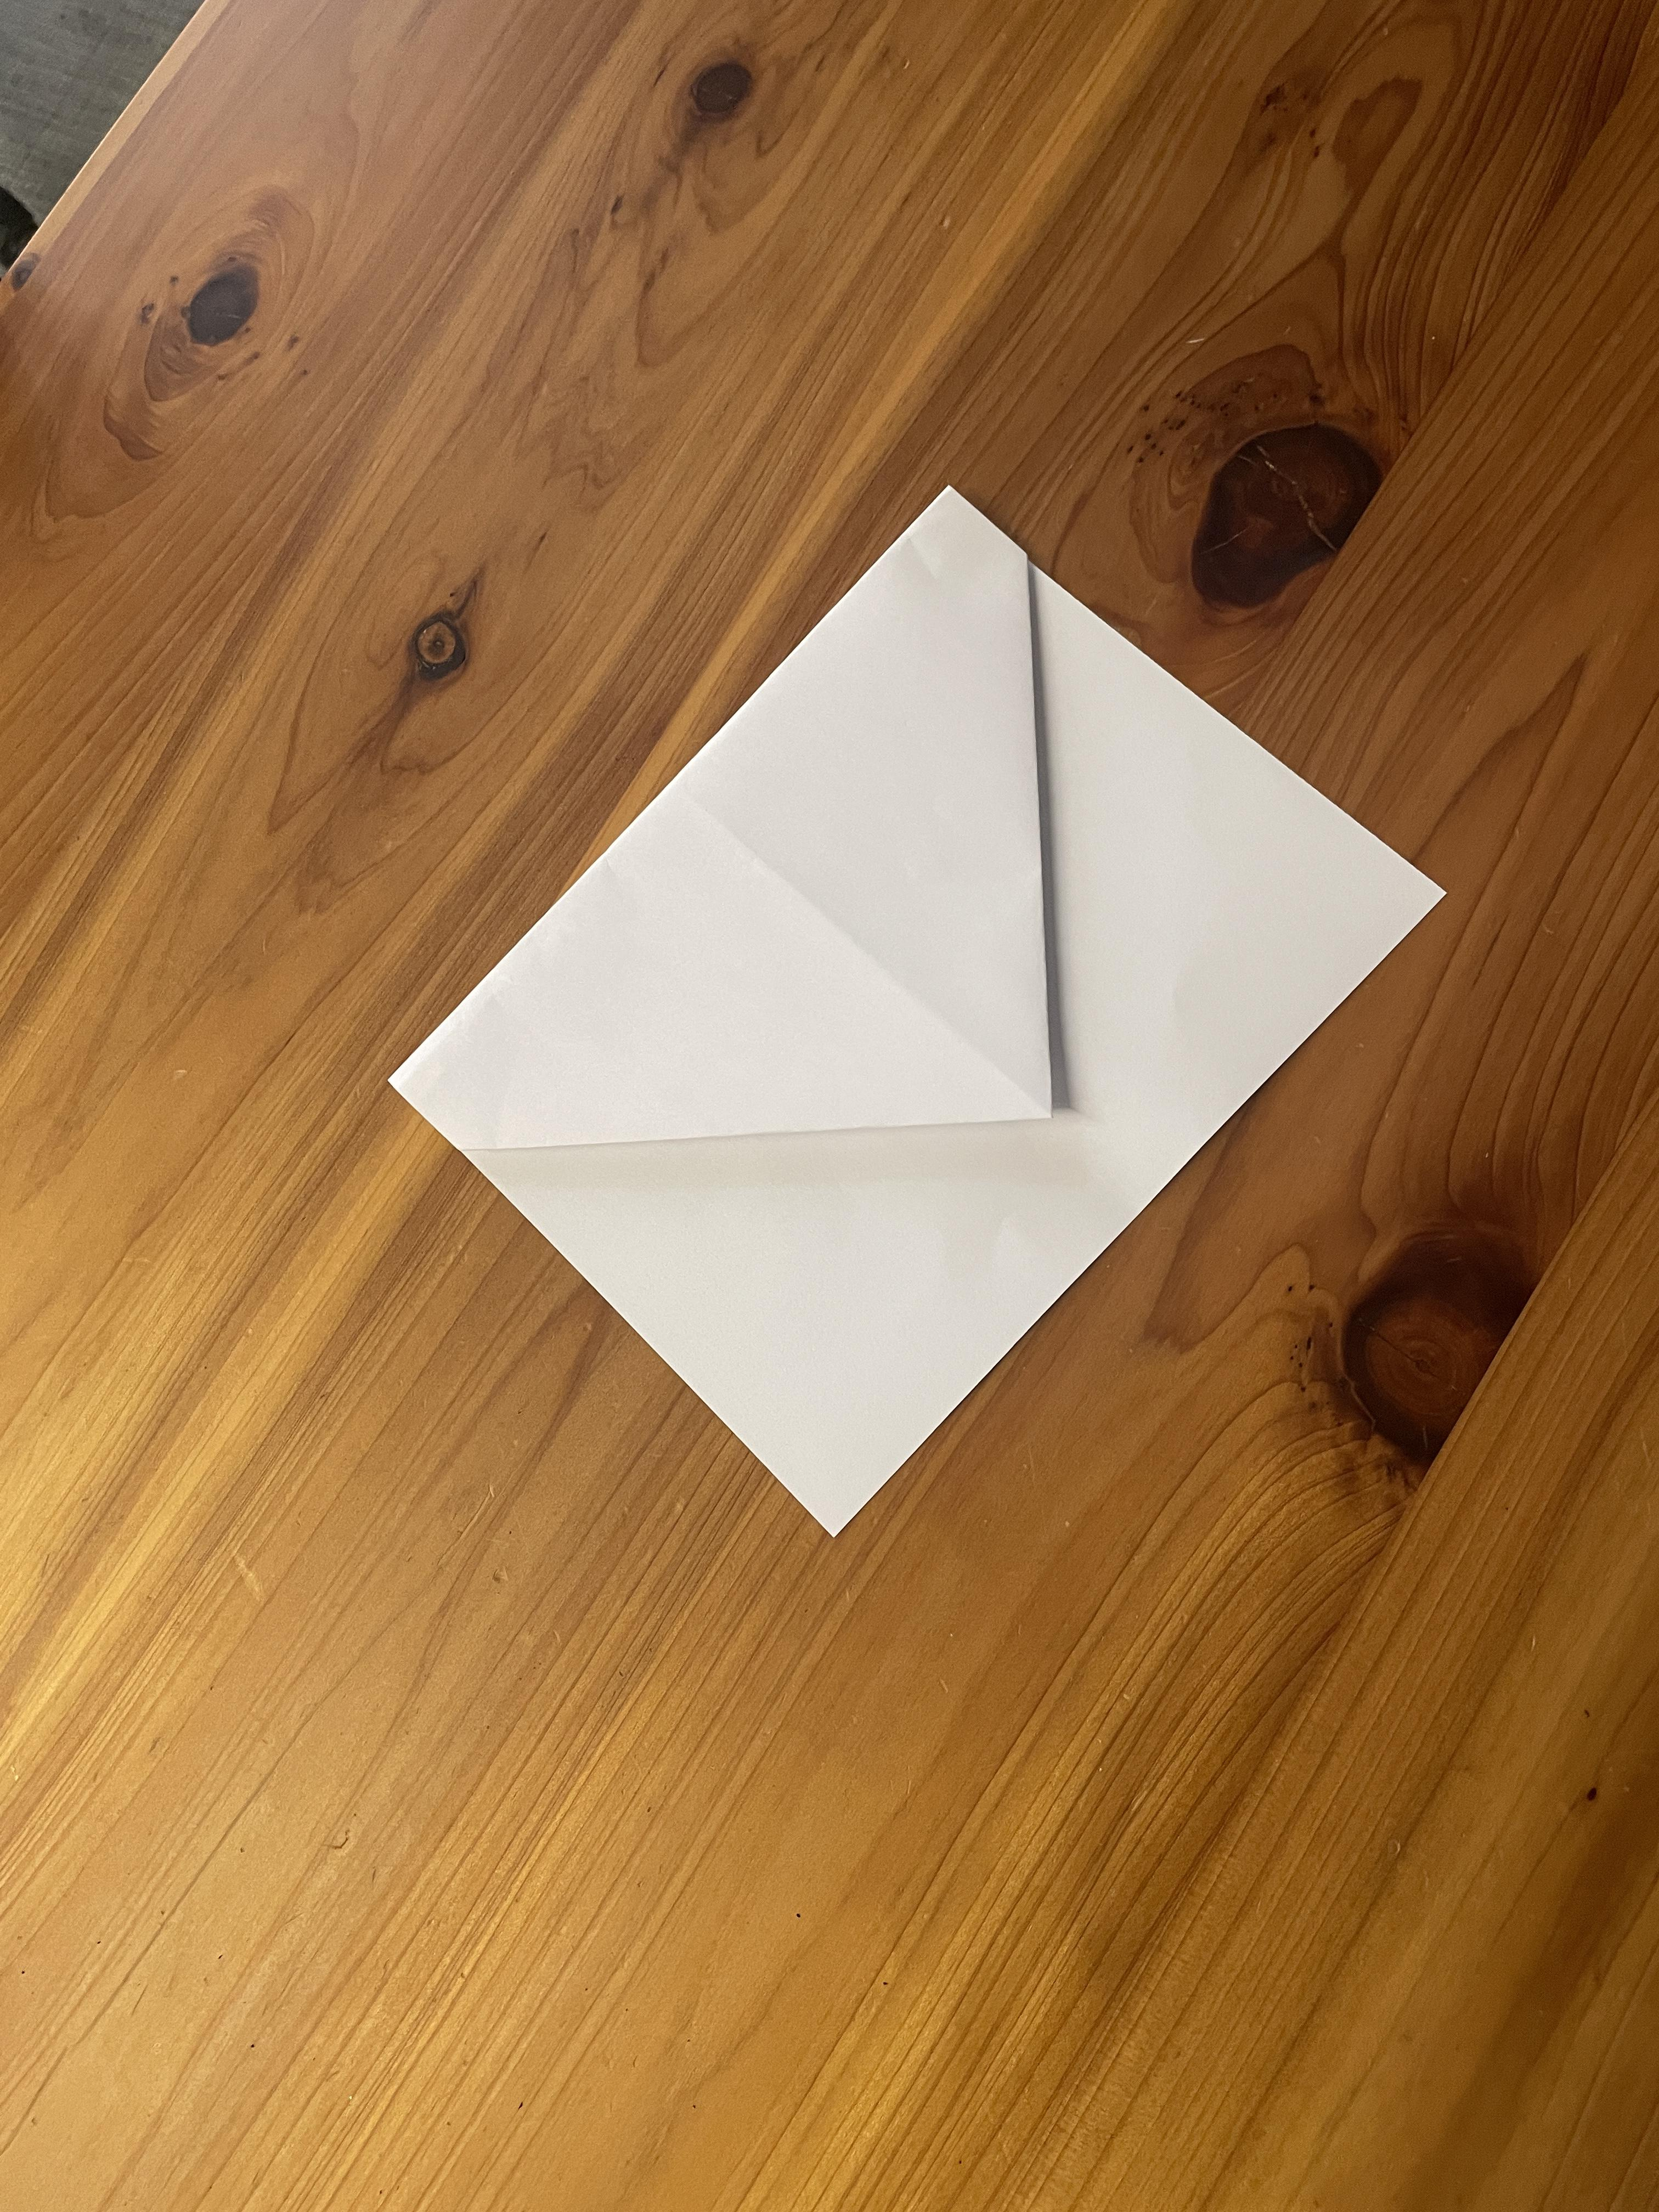shape_1: (368, 413, 1483, 1656)
